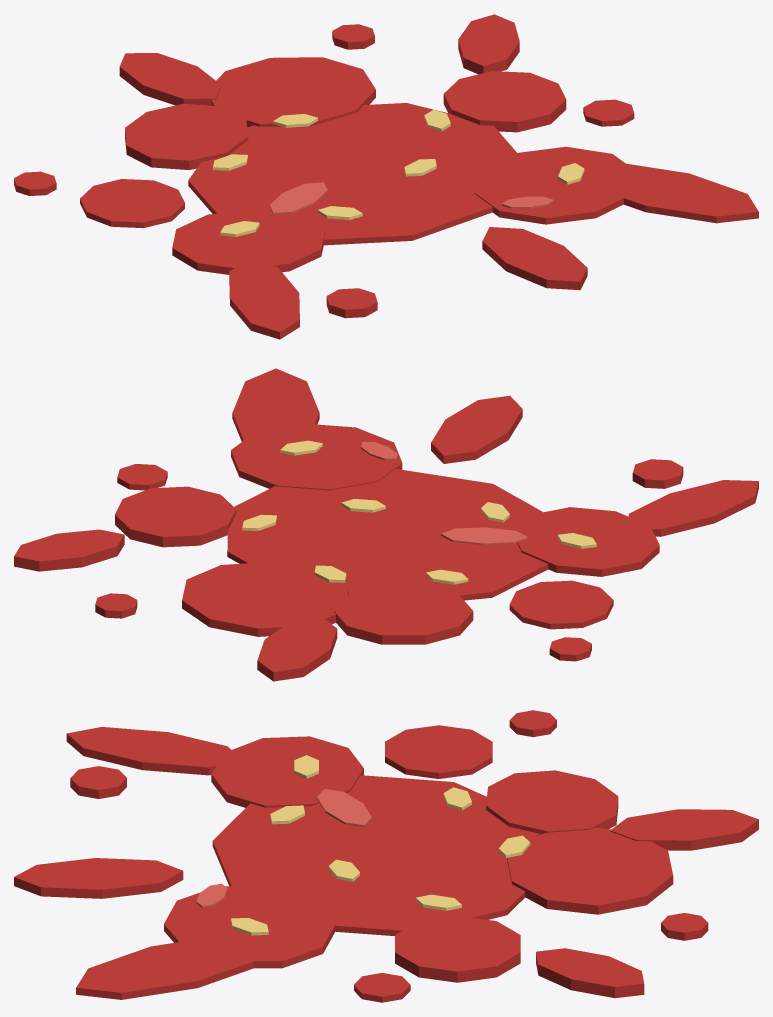
File: tomato_splat.gltf
3 views of the same model, one above another, from view 1: azimuth 30°, elevation 25°; view 2: azimuth 150°, elevation 25°; view 3: azimuth 270°, elevation 25° (orthographic). The views are drawn at different scales.
Visible parts, largest first — view 1: blob_centre, blob_lobe_3, blob_lobe_1, blob_lobe_2, blob_lobe_4, drip_1, blob_lobe_5, drip_3, blob_lobe_6, drip_2, drip_4, drip_5 (+5 smaller); view 2: blob_centre, blob_lobe_3, blob_lobe_1, blob_lobe_2, blob_lobe_4, blob_lobe_5, drip_1, drip_2, drip_3, blob_lobe_6, drip_4, drip_5 (+5 smaller); view 3: blob_centre, blob_lobe_3, blob_lobe_1, blob_lobe_2, drip_1, blob_lobe_5, blob_lobe_4, drip_2, drip_3, blob_lobe_6, drip_4, drip_5 (+12 smaller).
Boxes of the visible parts, box(x1,y1,x2,y2) form: blob_centre: box(188, 103, 516, 245); blob_lobe_3: box(211, 57, 375, 127); blob_lobe_1: box(474, 146, 637, 224); blob_lobe_2: box(172, 209, 325, 274); blob_lobe_4: box(125, 103, 248, 169); drip_1: box(582, 163, 758, 223); blob_lobe_5: box(443, 71, 566, 132); drip_3: box(482, 227, 587, 290); blob_lobe_6: box(80, 179, 184, 228); drip_2: box(229, 266, 299, 339); drip_4: box(119, 53, 221, 105); drip_5: box(458, 14, 519, 74); blob_centre: box(227, 469, 548, 600); blob_lobe_3: box(182, 562, 348, 636); blob_lobe_1: box(231, 423, 402, 490); blob_lobe_2: box(513, 507, 659, 576); blob_lobe_4: box(334, 586, 473, 644); blob_lobe_5: box(115, 486, 236, 547); drip_1: box(232, 368, 319, 454); drip_2: box(625, 480, 758, 536); drip_3: box(431, 395, 522, 463); blob_lobe_6: box(509, 580, 613, 629); drip_4: box(257, 617, 337, 681); drip_5: box(14, 529, 124, 571); blob_centre: box(212, 775, 538, 935); blob_lobe_3: box(507, 827, 673, 914); blob_lobe_1: box(164, 886, 335, 968); blob_lobe_2: box(211, 736, 363, 807); drip_1: box(76, 934, 271, 999); blob_lobe_5: box(395, 915, 520, 982); blob_lobe_4: box(486, 770, 618, 834); drip_2: box(66, 727, 243, 775); drip_3: box(14, 858, 183, 898); blob_lobe_6: box(385, 725, 492, 778); drip_4: box(610, 809, 758, 850); drip_5: box(536, 948, 644, 998).
Size of the model in its own units: 0.3575 by 0.008 by 0.3942.
3 materials, 3 textured.
